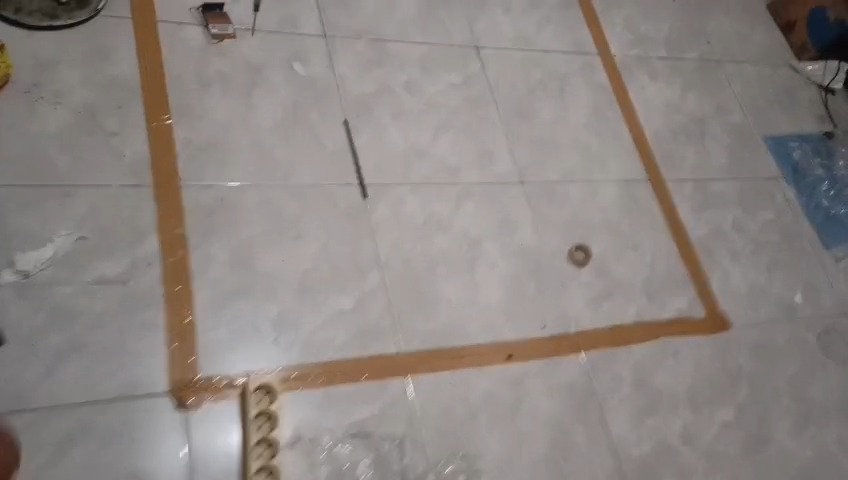floor marking: (131, 0, 731, 408)
